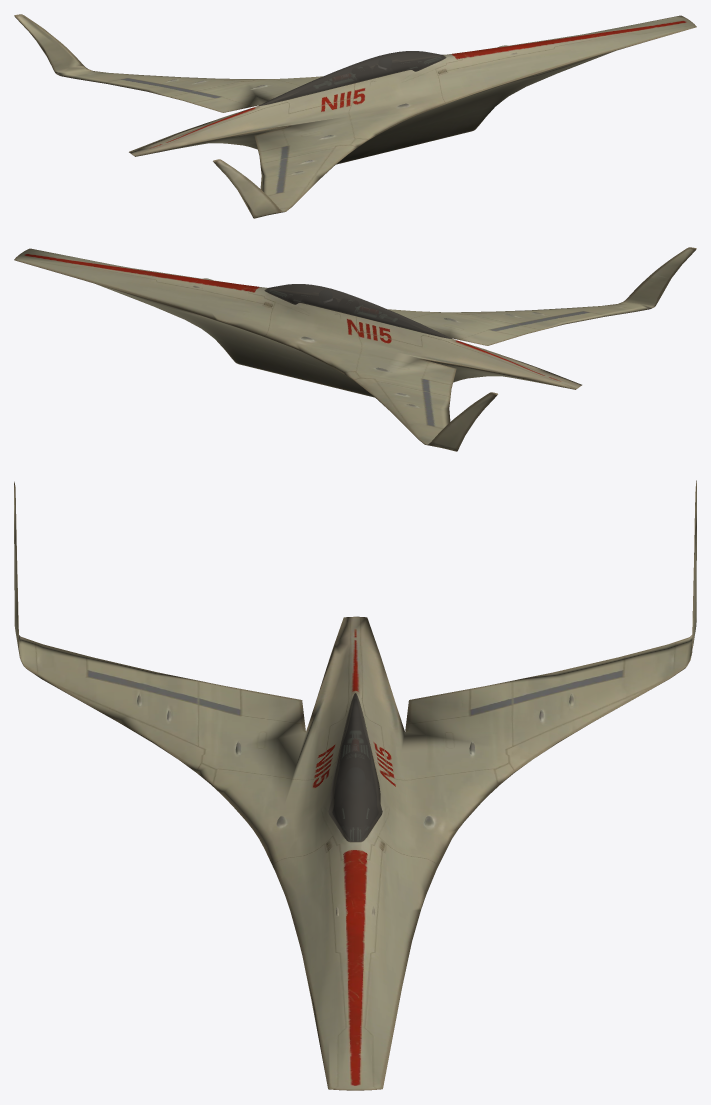
File: fyre_jet_ship_compressed.glb
3 renders of one model, top to bottom at view 1: azimuth 30°, elevation 25°; view 2: azimuth 150°, elevation 25°; view 3: azimuth 270°, elevation 25°, orthographic. The views are drawn at different scales.
Visible parts, largest first — view 1: Plane Body_Plane Body_0, Cockpit Canopy_Cockpit Canopy_0; view 2: Plane Body_Plane Body_0, Cockpit Canopy_Cockpit Canopy_0; view 3: Plane Body_Plane Body_0, Cockpit Canopy_Cockpit Canopy_0.
Part boxes in pixels (x1,y1,x2,y2): Plane Body_Plane Body_0: (14,14,696,218); Cockpit Canopy_Cockpit Canopy_0: (259,51,446,105); Plane Body_Plane Body_0: (14,247,696,451); Cockpit Canopy_Cockpit Canopy_0: (264,284,451,338); Plane Body_Plane Body_0: (14,480,696,1090); Cockpit Canopy_Cockpit Canopy_0: (328,693,382,842).
Size of the model in its own units: 9.57 by 2.07 by 5.71.
Materials: 11 (9 with a texture image).
